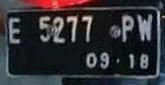2: (51, 14, 67, 45)
5: (36, 14, 54, 45)
7: (78, 14, 97, 44), (64, 14, 80, 44)
E: (8, 16, 23, 47)
P: (121, 13, 139, 44)
W: (137, 12, 154, 42)
